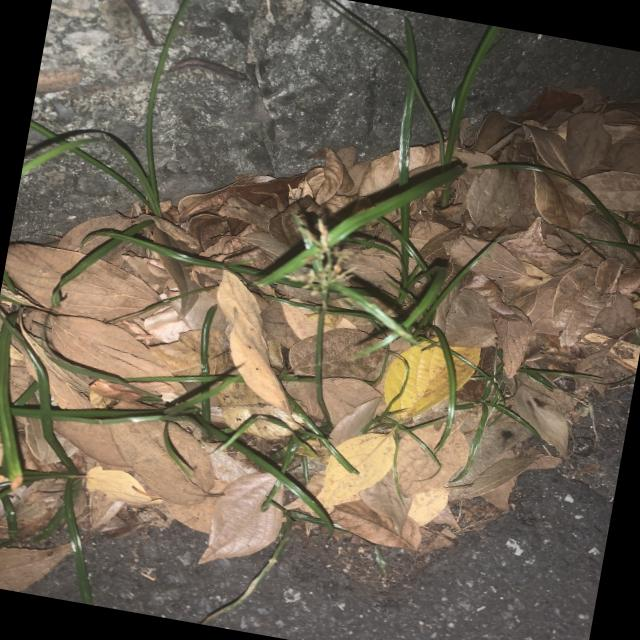cyperus: (246, 198, 392, 332)
